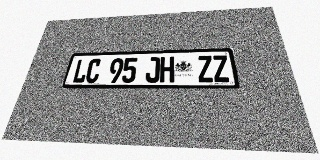5: (121, 58, 137, 83)
9: (108, 58, 124, 83)
C: (84, 59, 102, 83)
H: (160, 57, 174, 83)
J: (145, 57, 160, 83)
L: (71, 59, 90, 83)
Z: (212, 55, 230, 82), (197, 56, 214, 82)
